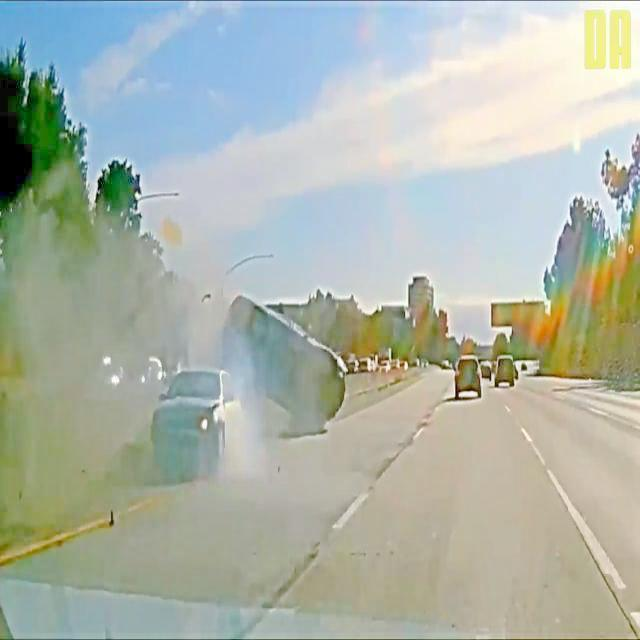Car: (220, 294, 354, 432), (147, 352, 249, 482)
Major Accident: (147, 294, 357, 485)
